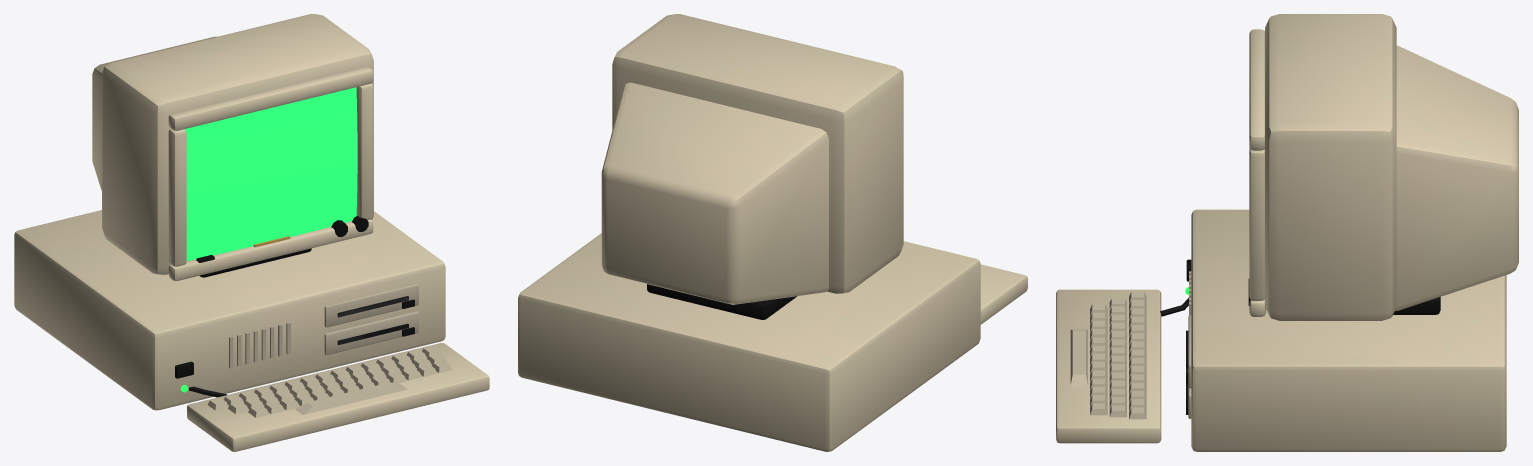
Rendered from computer_mini.glb.
3 views of the same model, side by side, from view 1: azimuth 30°, elevation 25°; view 2: azimuth 150°, elevation 25°; view 3: azimuth 270°, elevation 25° (orthographic). The views are drawn at different scales.
Visible parts, largest first — view 1: pcCase, mShell, pcScreen, pkKeys; view 2: mShell, pcCase; view 3: mShell, pcCase, pkKeys.
Boxes of the visible parts, x1,y1,x2,y2 form: pcCase: (14,210,489,451); mShell: (92,14,373,280); pcScreen: (185,87,357,261); pkKeys: (207,346,452,417); mShell: (601,14,903,319); pcCase: (518,233,1027,451); mShell: (1248,14,1518,320); pcCase: (1056,209,1506,451); pkKeys: (1070,292,1146,419).
Bounding box in the file's own units: 0.5 × 0.45 × 0.6165.
9 materials, 3 textured.
